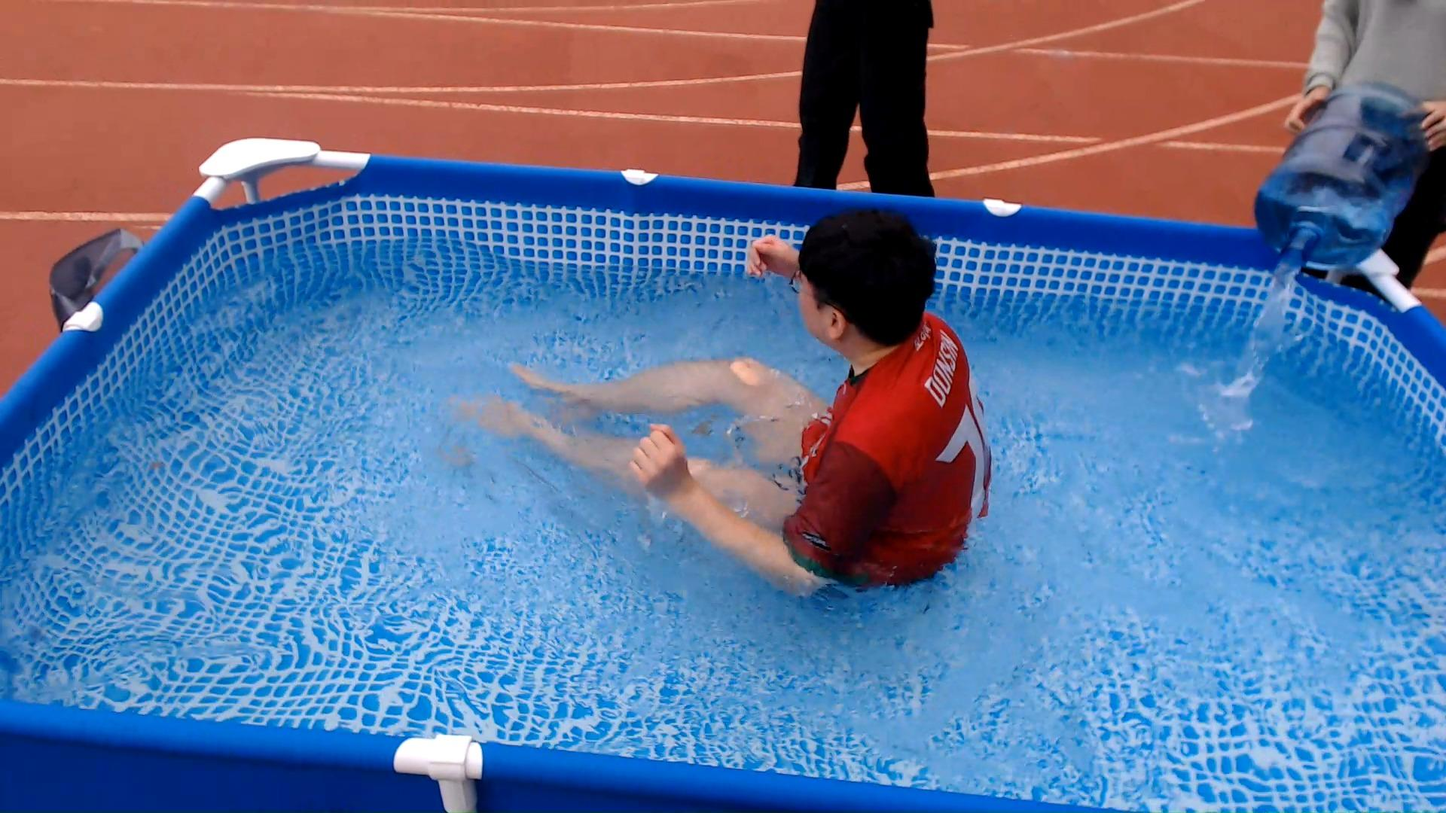Swimming: (467, 166, 1015, 605)
